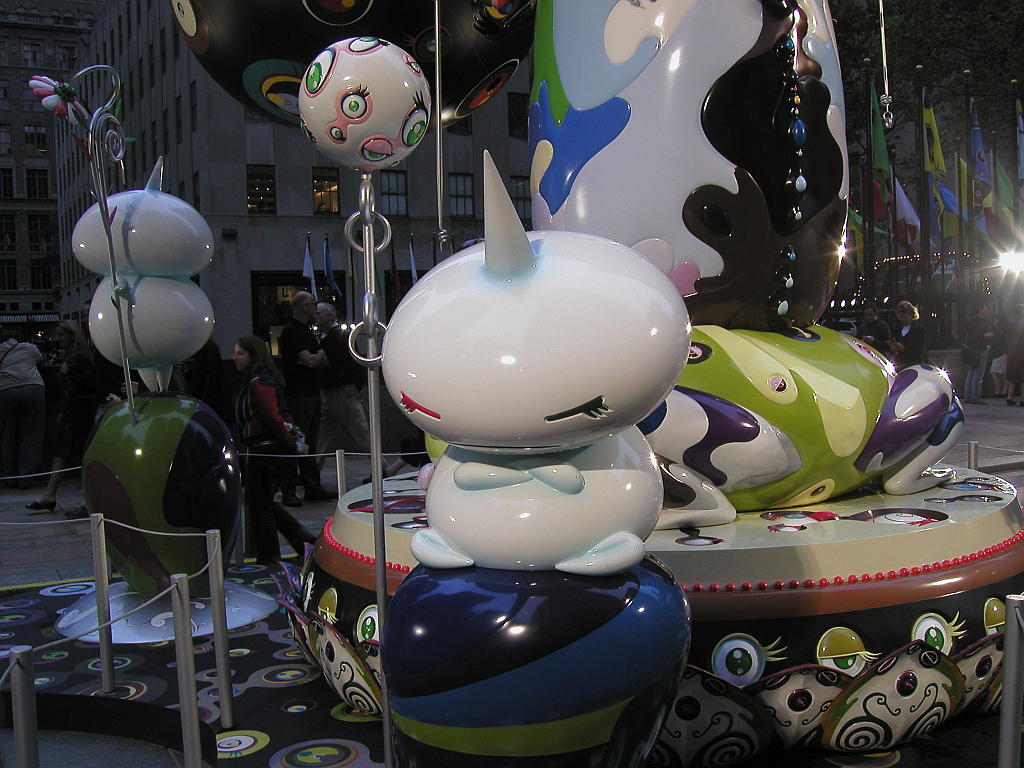Ball: (301, 37, 430, 173)
